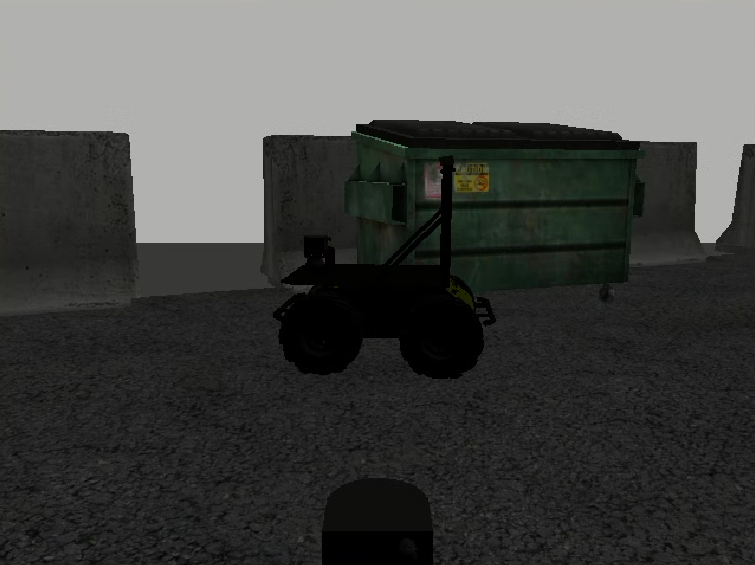husky: (273, 263, 497, 380)
